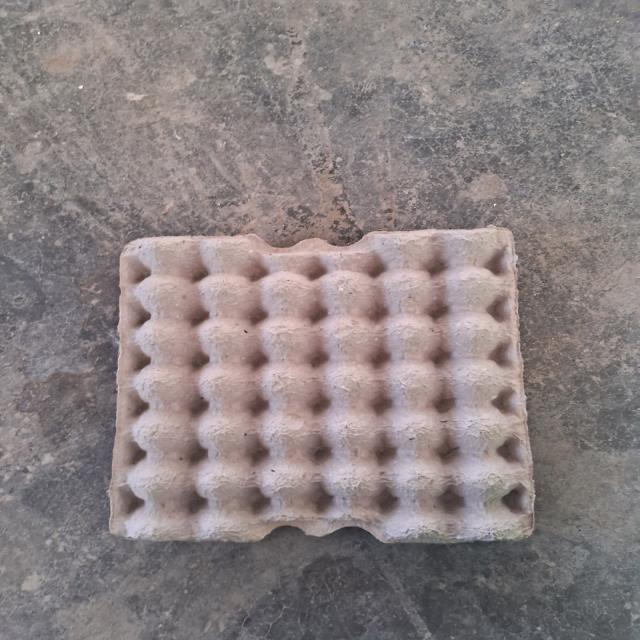egg_tray: (111, 228, 532, 540)
